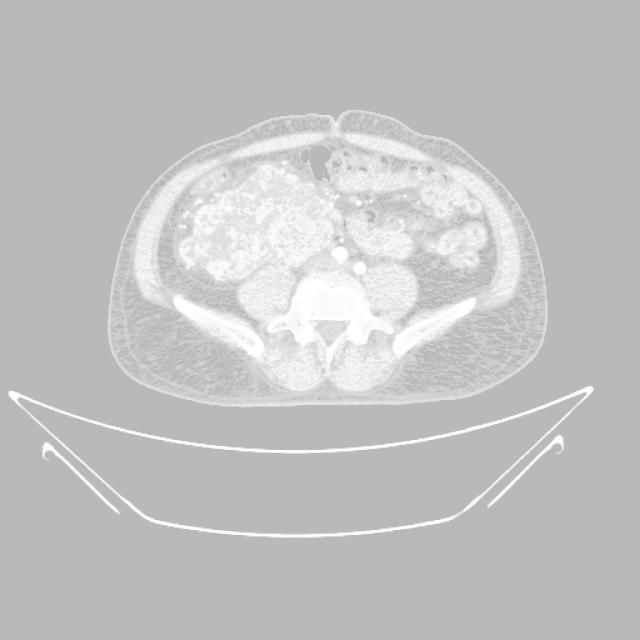TUMOR: (164, 143, 545, 266)
